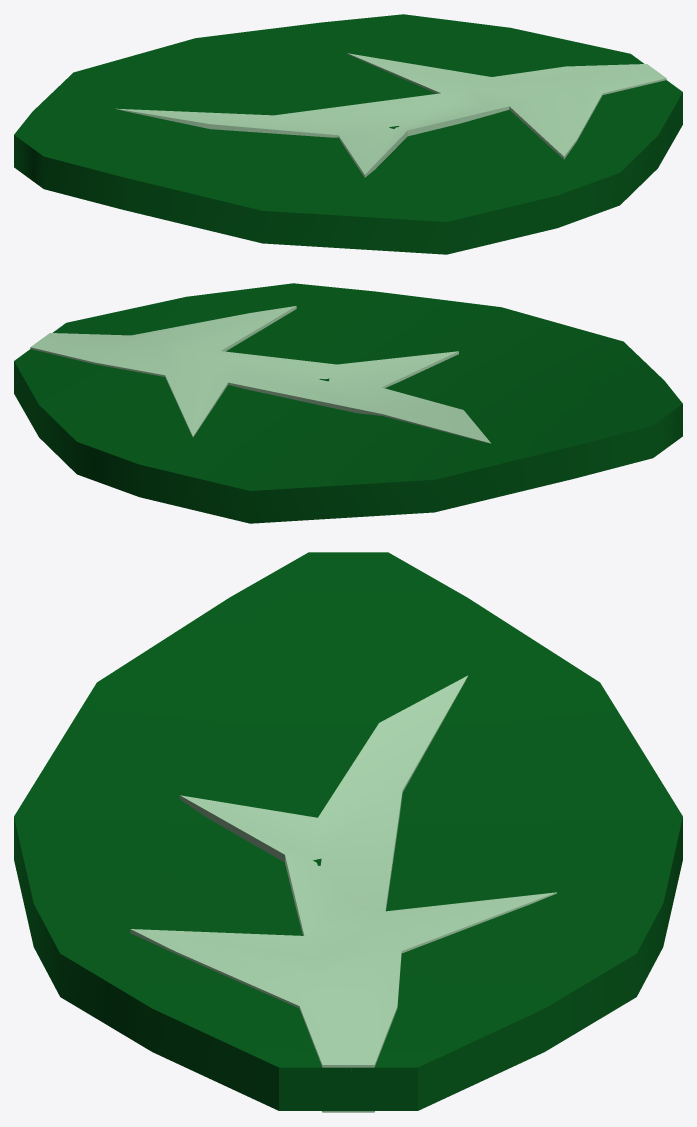
File: VegetableNew2.fbx
3 renders of one model, top to bottom at view 1: azimuth 30°, elevation 25°; view 2: azimuth 150°, elevation 25°; view 3: azimuth 270°, elevation 25°, orthographic. The views are drawn at different scales.
Visible parts, largest first — view 1: pCube17; view 2: pCube17; view 3: pCube17.
Part boxes in pixels (bbox=[...]): pCube17: bbox=[14, 14, 682, 254]; pCube17: bbox=[14, 283, 682, 523]; pCube17: bbox=[14, 552, 682, 1112].
Size of the model in its own units: 1.44 by 0.2515 by 1.
